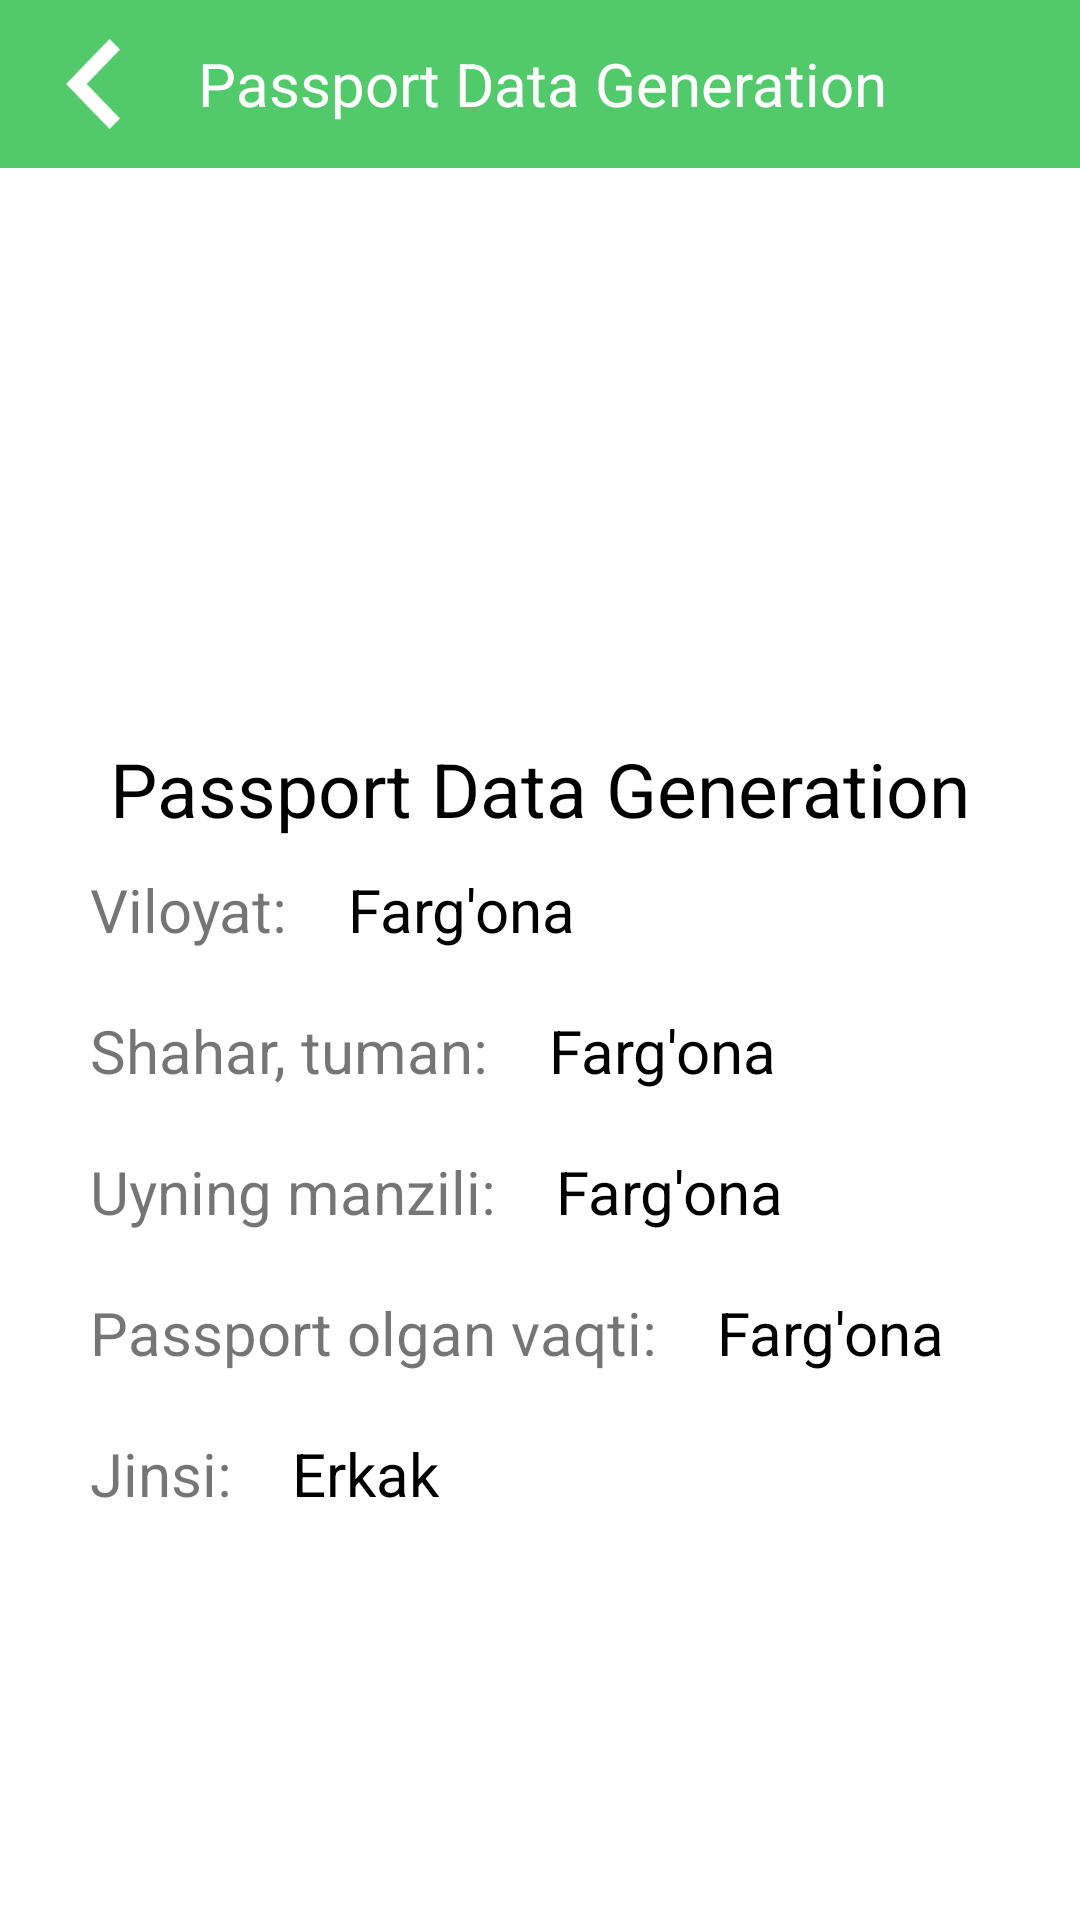

Locate icon controls on the screen. Image size 1080px x 1920px, boxes as (x1, y1, x2, y2).
back: (66, 39, 120, 129)
